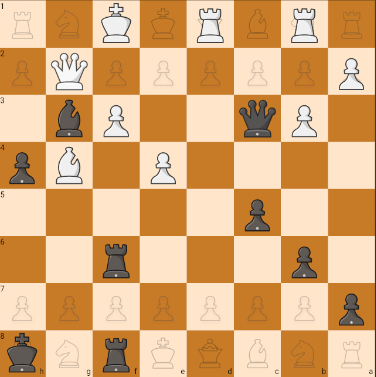bb: (51, 99, 92, 141)
bk: (1, 333, 43, 375), (237, 99, 279, 139)
bp: (238, 194, 273, 234), (98, 101, 134, 139), (5, 148, 40, 187), (334, 289, 368, 328), (287, 242, 321, 279)
br: (95, 333, 136, 374), (97, 240, 136, 282)
wk: (94, 1, 140, 47)
wp: (332, 52, 371, 95), (287, 99, 323, 139), (148, 148, 180, 184)
wq: (47, 50, 90, 91), (50, 146, 88, 185)
wr: (188, 3, 232, 46), (284, 5, 324, 45)
